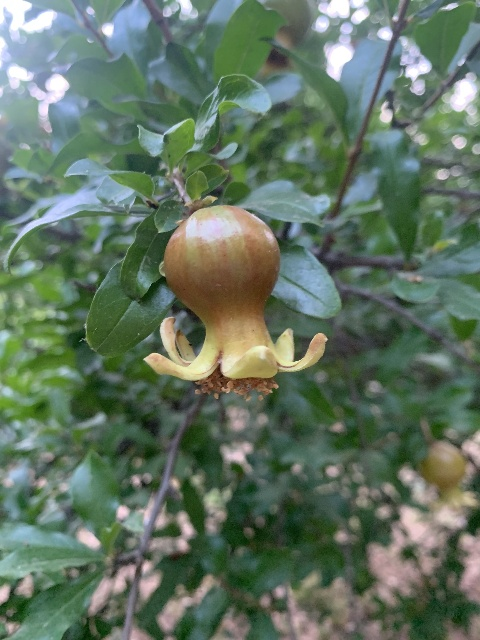early-fruit: (141, 202, 329, 401)
mid-growth: (418, 443, 479, 511)
